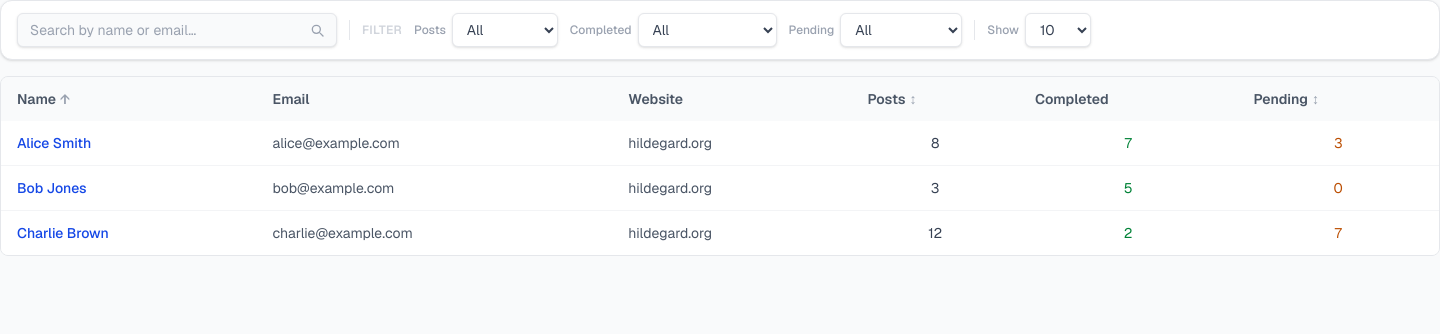
Scenario: UsersClient › shows empty state when no users match search
Type "zzznomatch" into the search field at coordinates (177, 30), box top-left (17, 13), bottom-right (337, 47)
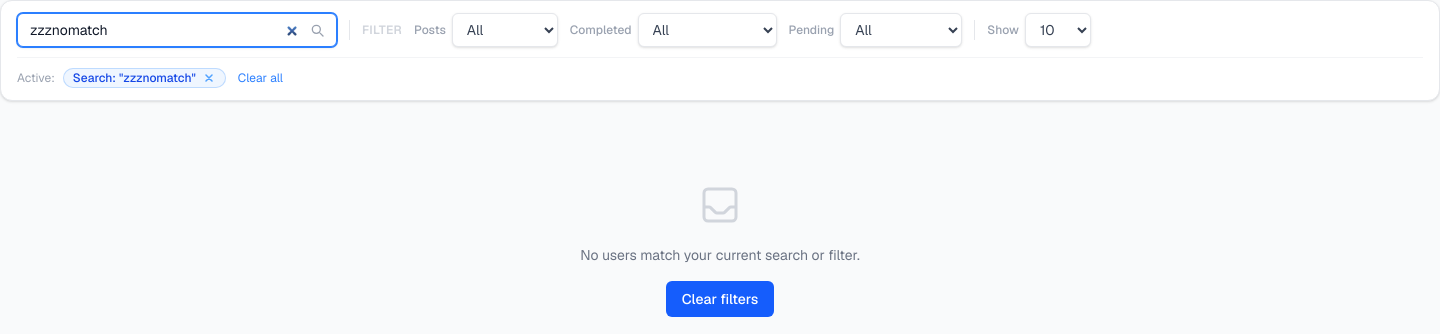
Expected: the text "No users match your current search or filter." is shown, top-left (580, 245), bottom-right (860, 265)
